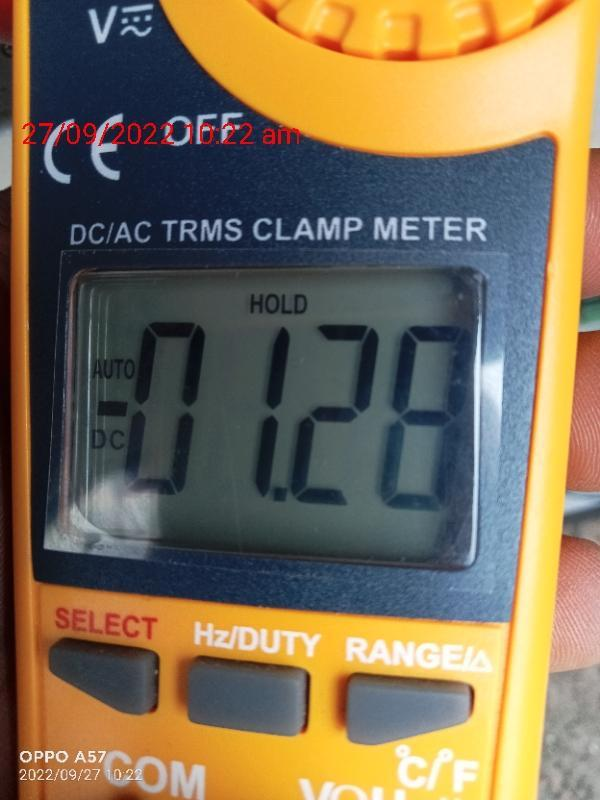ClampMeter_Display: (61, 271, 485, 573)
